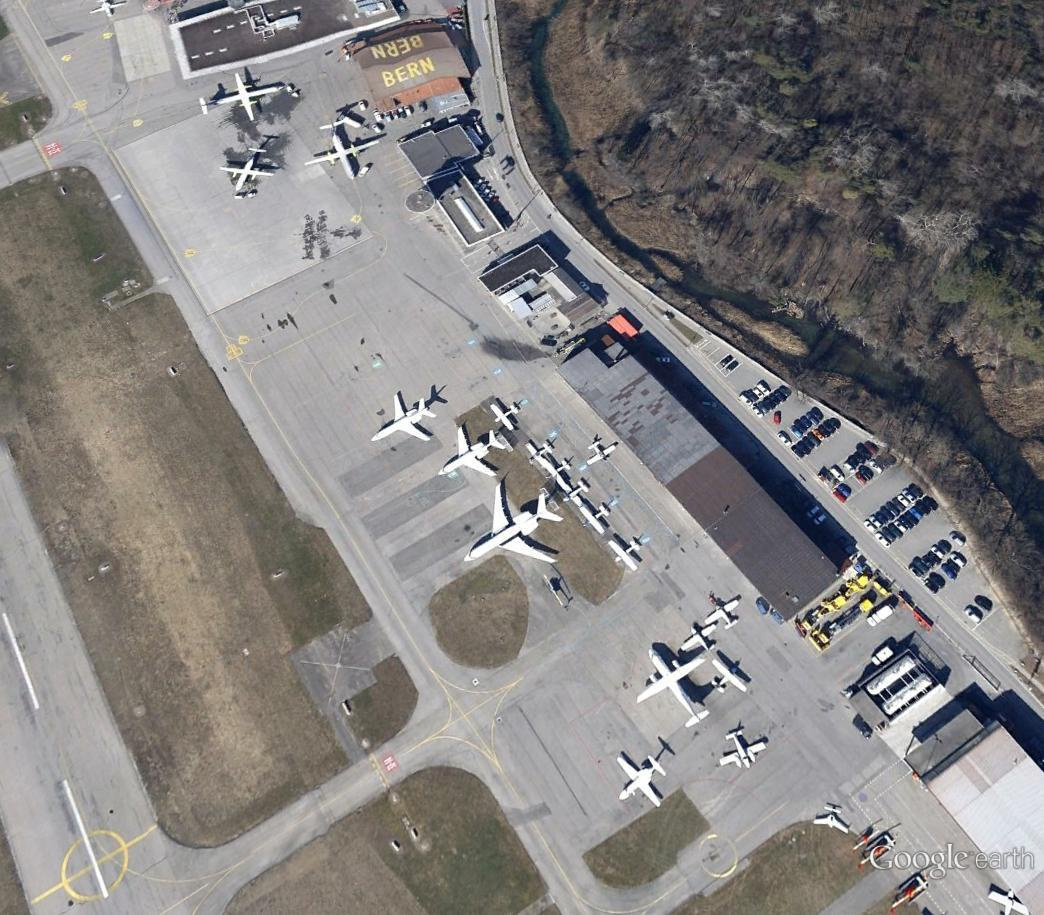aircraft: (459, 478, 573, 570), (634, 643, 712, 735), (300, 114, 390, 187), (196, 67, 291, 126), (364, 384, 445, 445), (435, 423, 510, 483), (213, 139, 279, 205), (612, 747, 672, 813), (717, 726, 774, 774), (705, 655, 756, 697), (810, 801, 858, 840), (603, 535, 646, 576), (702, 591, 745, 631), (985, 882, 1033, 915), (676, 621, 723, 654), (486, 394, 523, 435), (556, 475, 592, 513), (522, 435, 558, 472), (577, 502, 616, 535), (583, 438, 622, 469), (540, 456, 573, 486), (87, 1, 124, 21)
